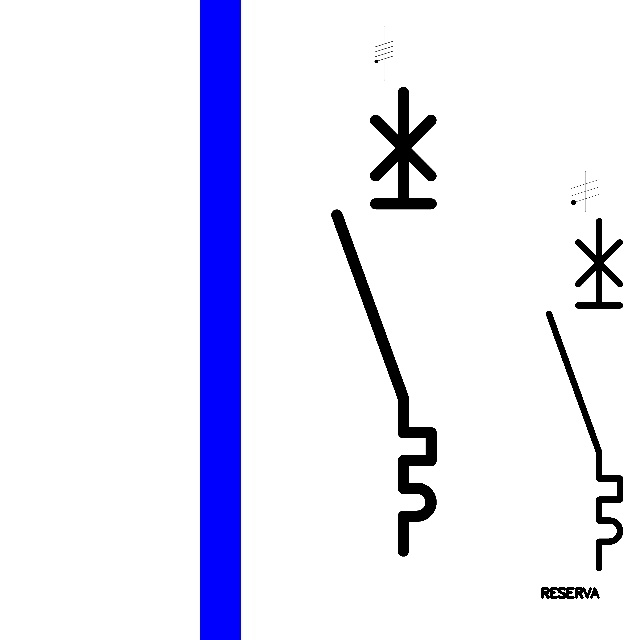interruptor_termomagnetico: (325, 80, 443, 562), (540, 212, 629, 577)
